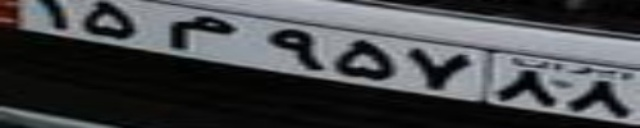1: (37, 0, 69, 30)
5: (331, 37, 393, 82), (83, 0, 138, 40)
6: (403, 47, 471, 90)
7: (563, 78, 633, 119), (493, 68, 557, 106)
9: (264, 27, 323, 71)
mim: (168, 14, 236, 50)
